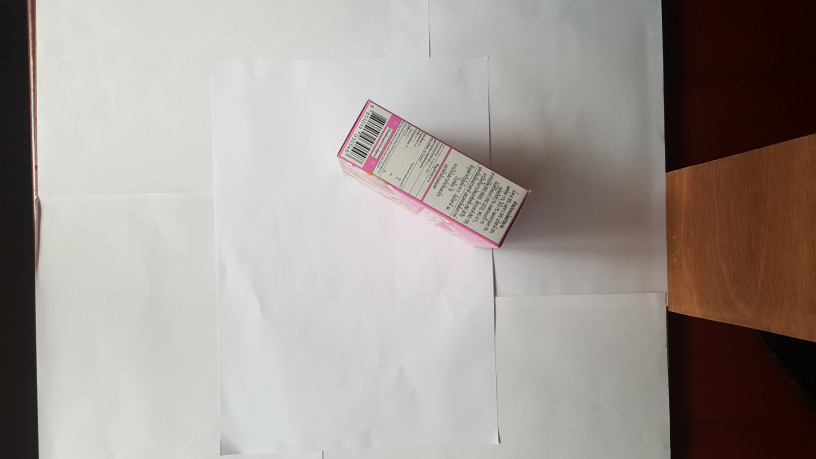collon-strawberry: (334, 98, 534, 253)
